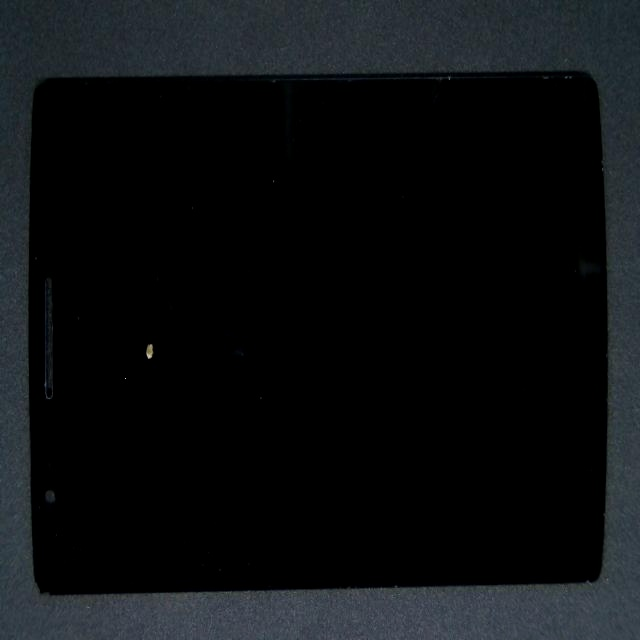stain: (90, 148, 211, 496)
